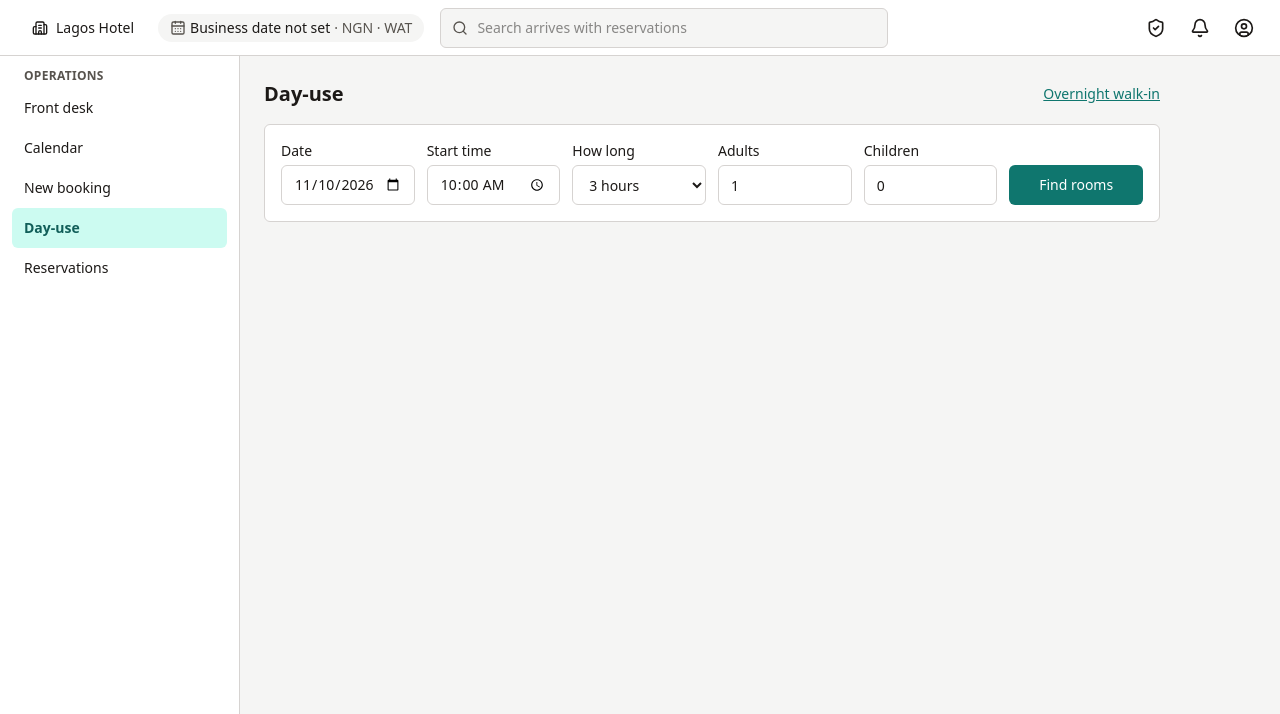
Day-use (M3-10) › sells a room for a start time and duration, then opens check-in
Expected: the date field labelled "Date" holds "2026-11-10", [281, 165, 415, 205]
Expected: the time field labelled "Start time" holds "10:00", [427, 165, 560, 205]
Step 1. Select "4 hours" in the dropdown labelled "How long" → (639, 185), box [572, 165, 706, 205]
Step 2. Click the button "Find rooms" → (1076, 185), box [1009, 165, 1143, 205]
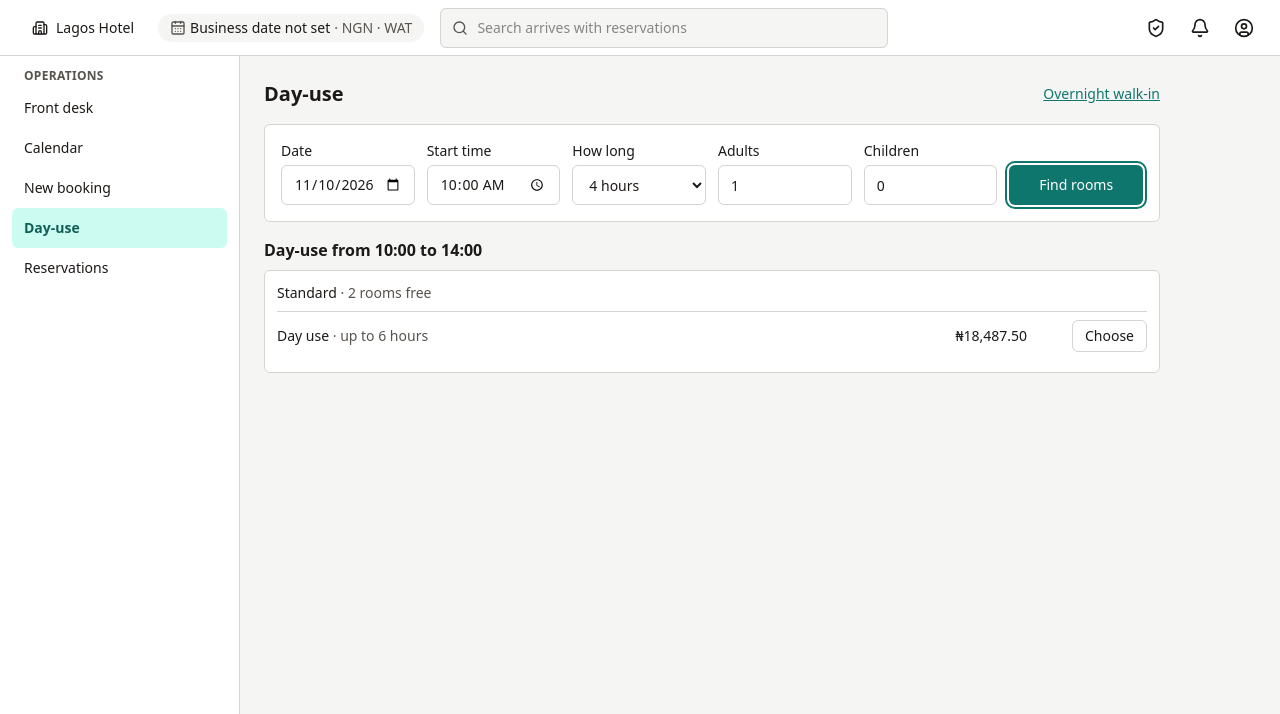
Expected: the heading "Day-use from 10:00 to 14:00" is shown, [264, 239, 482, 261]
Expected: the table named "Plans for Standard" shows "up to 6 hours", [340, 326, 428, 345]
Expected: the table named "Plans for Standard" shows "₦18,487.50", [955, 326, 1027, 345]
Step 3. Click the button with aria-label "Add Standard on Day use" → (1110, 336), box [1072, 320, 1147, 352]
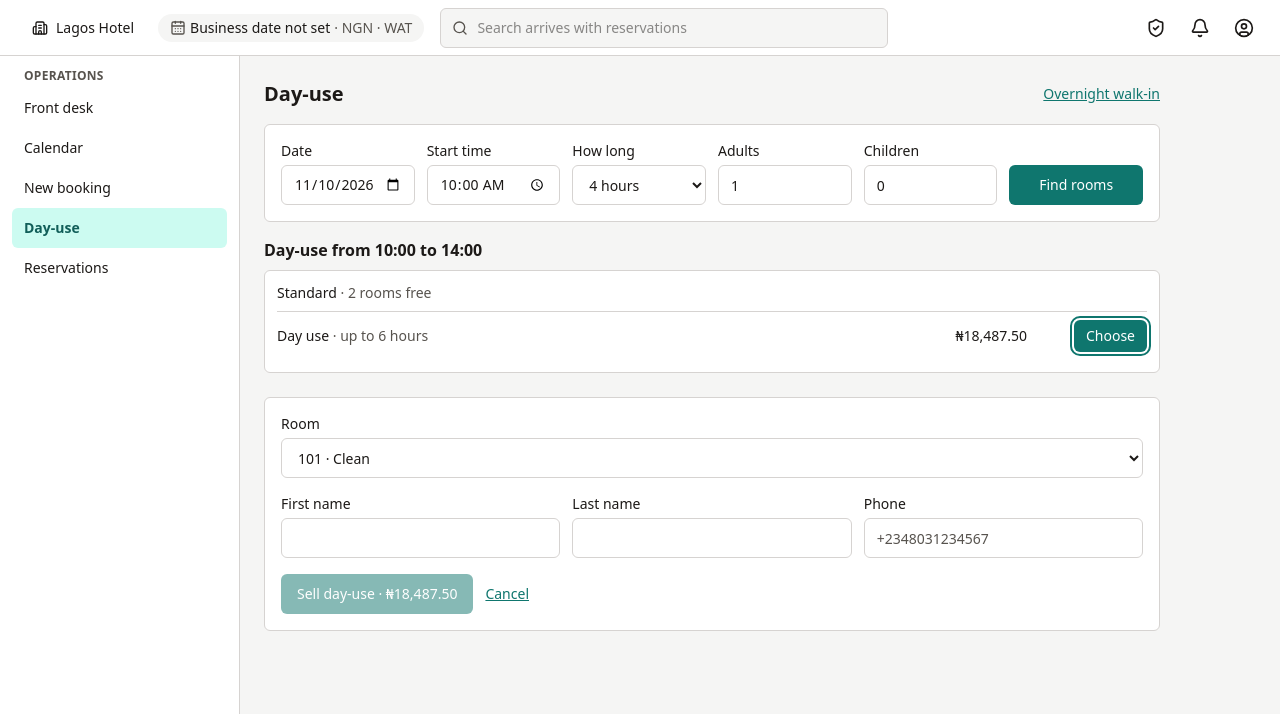
Expected: the dropdown labelled "Room" shows "101 · Clean"
Step 4. Select "102 · Dirty" in the dropdown labelled "Room" → (712, 458), box [281, 438, 1143, 478]
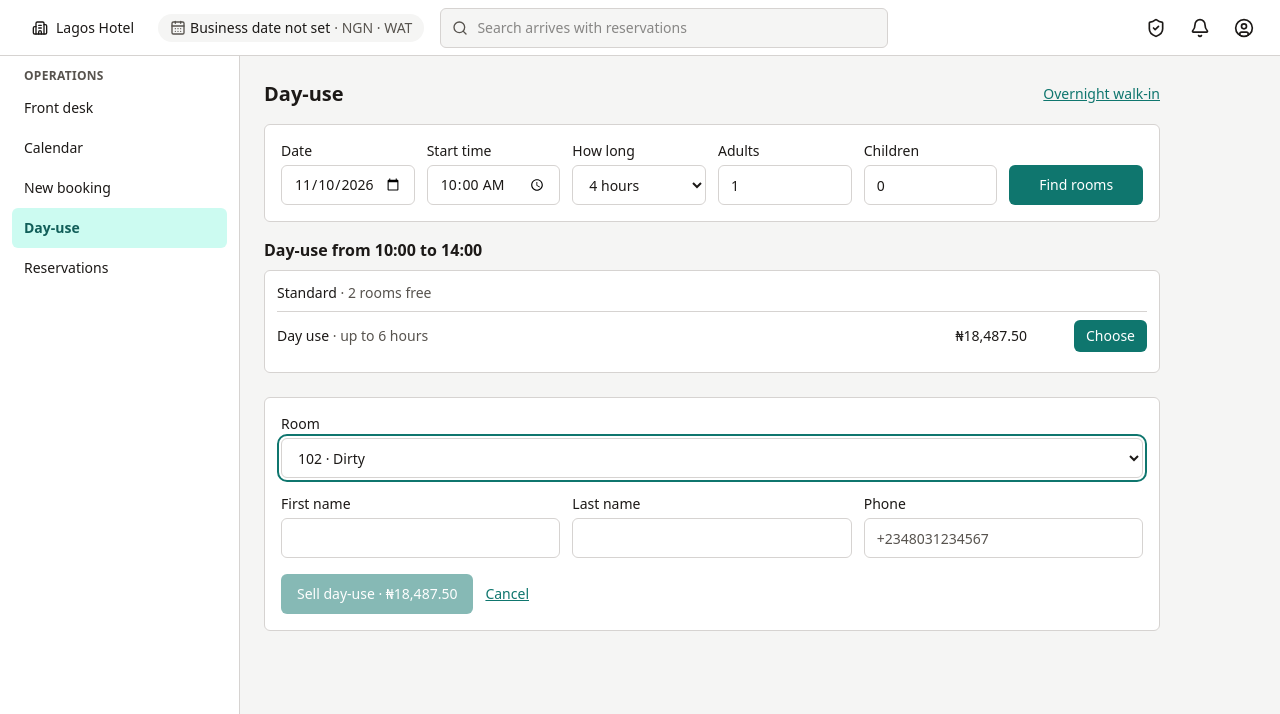
Step 5. Type "Kemi" into the field labelled "First name" → (421, 538), box [281, 518, 560, 558]
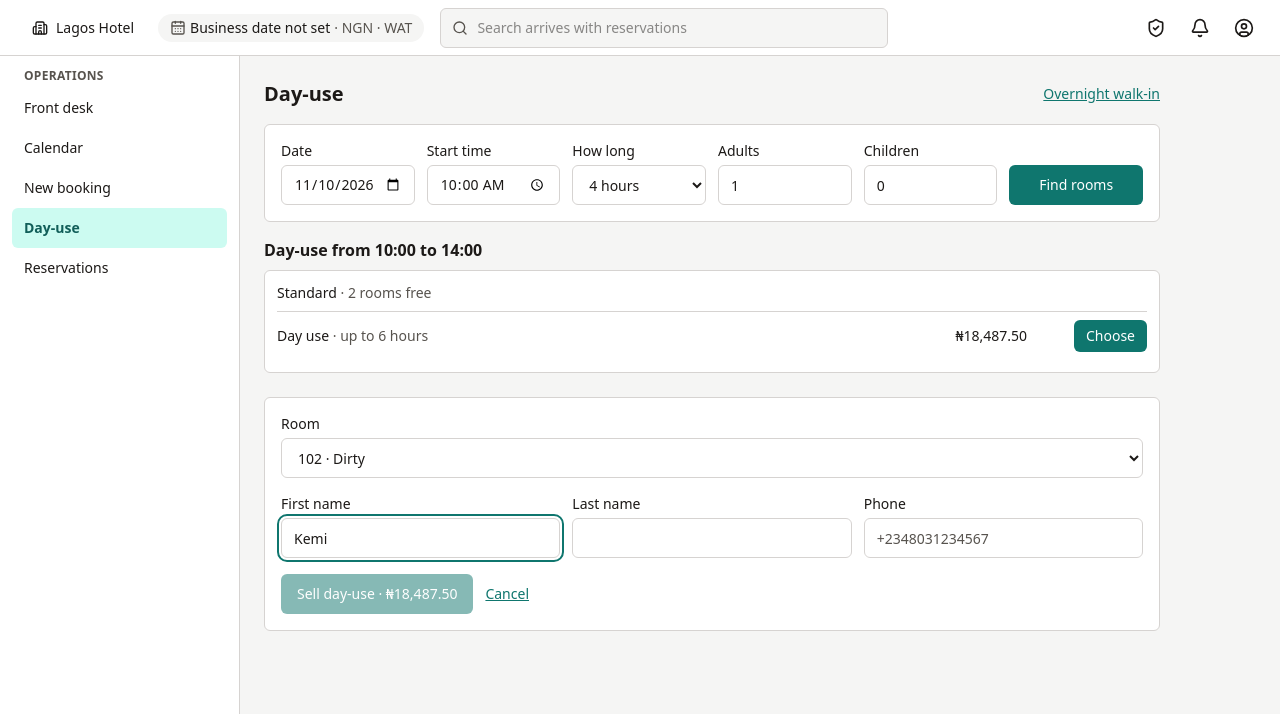
Step 6. Type "Ade" into the field labelled "Last name" → (712, 538), box [572, 518, 852, 558]
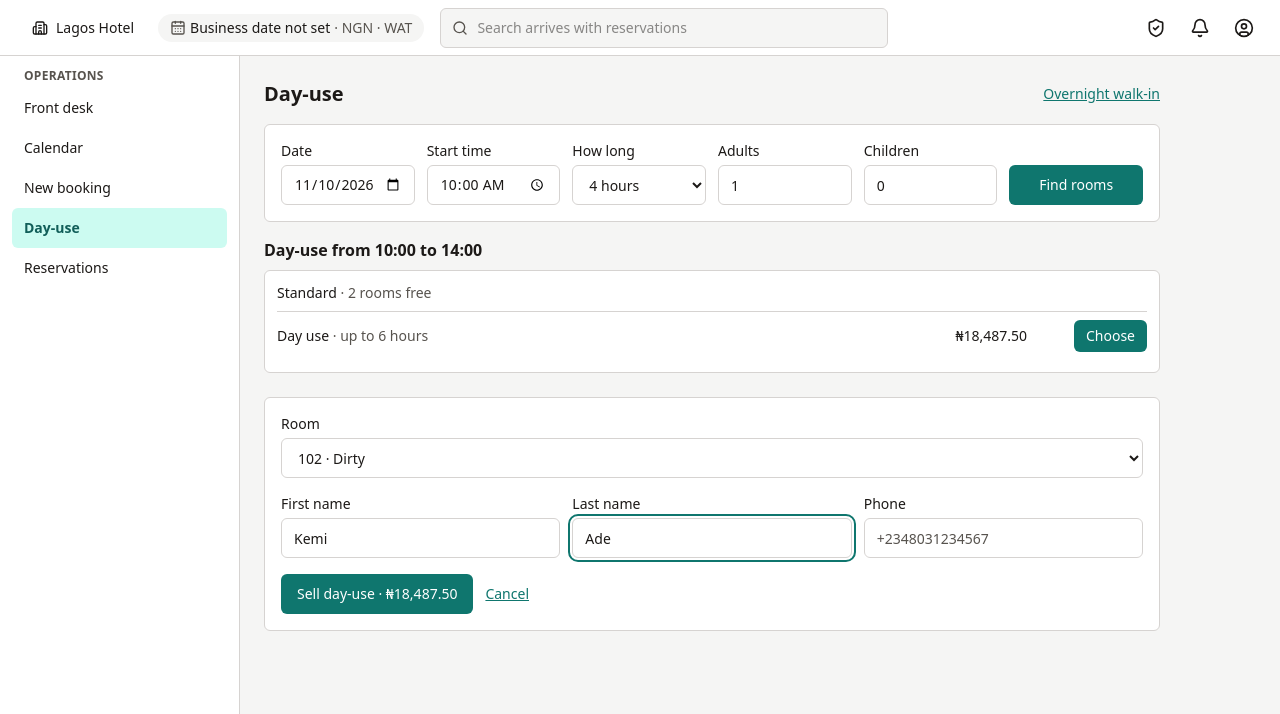
Step 7. Click the button "Sell day-use · ₦18,487.50" → (377, 594), box [281, 574, 473, 614]
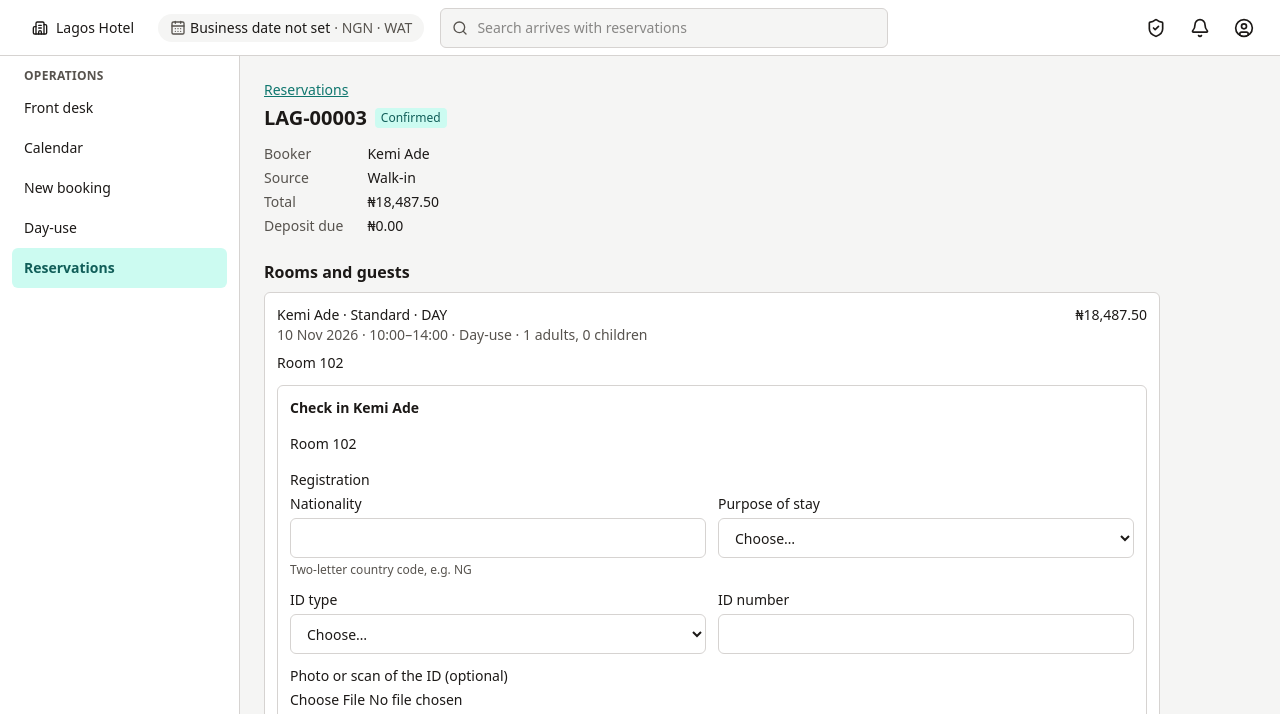
Expected: the text "10 Nov 2026 · 10:00–14:00 · Day-use · 1 adults, 0 children" is shown, [277, 325, 647, 344]
